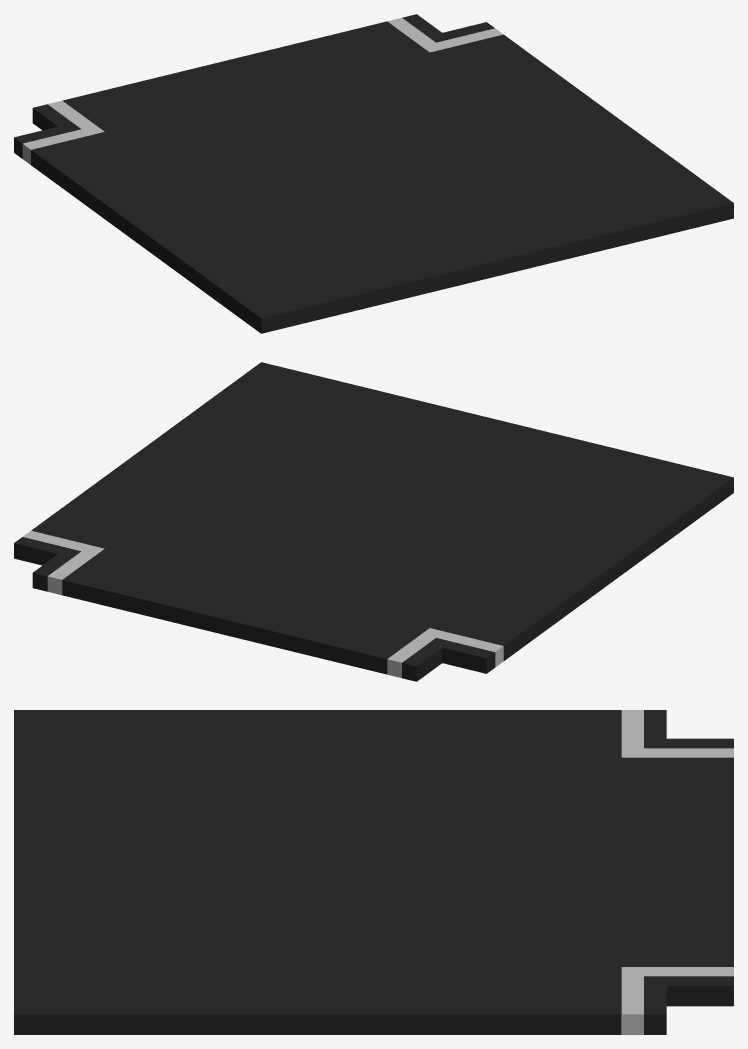
File: asphalt-edgy-connection.gltf
3 views of the same model, one above another, from view 1: azimuth 30°, elevation 25°; view 2: azimuth 150°, elevation 25°; view 3: azimuth 270°, elevation 25° (orthographic). The views are drawn at different scales.
Parts seen in each view (by area): view 1: asphalt-edgy-connection; view 2: asphalt-edgy-connection; view 3: asphalt-edgy-connection.
Part boxes in pixels (x1,y1,x2,y2): asphalt-edgy-connection: [14, 14, 733, 333]; asphalt-edgy-connection: [14, 362, 733, 681]; asphalt-edgy-connection: [14, 710, 733, 1034].
Size of the model in its own units: 3.2 by 0.1 by 3.2.
Materials: 1 (1 with a texture image).
